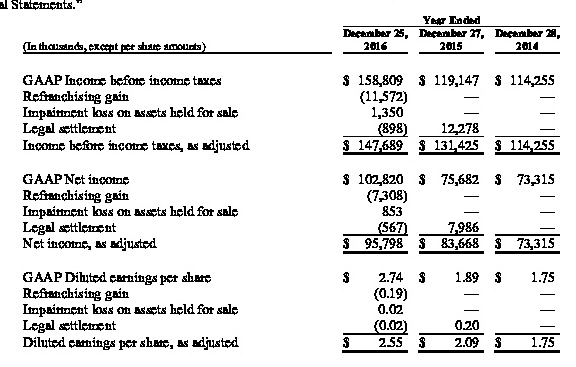table: (0, 0, 576, 367)
